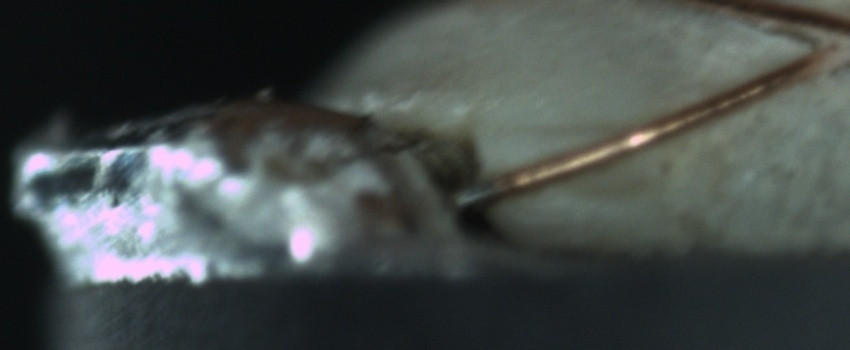DL: (498, 97, 637, 162)
TS: (456, 179, 499, 212)
